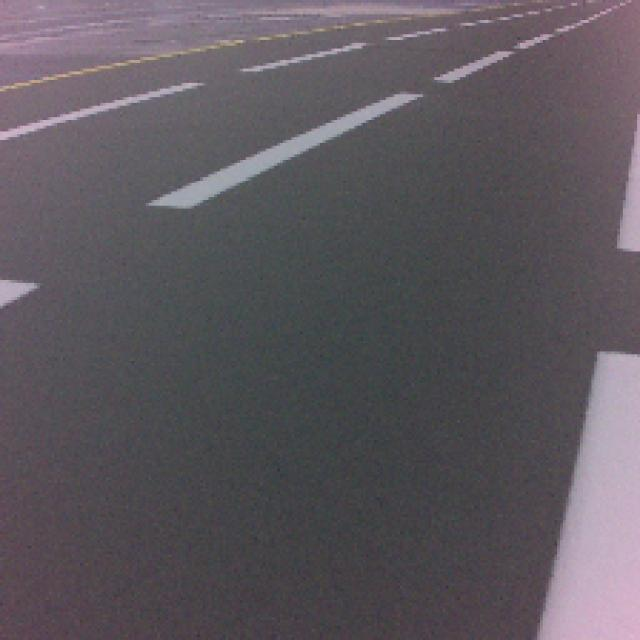Road: (0, 270, 601, 638)
